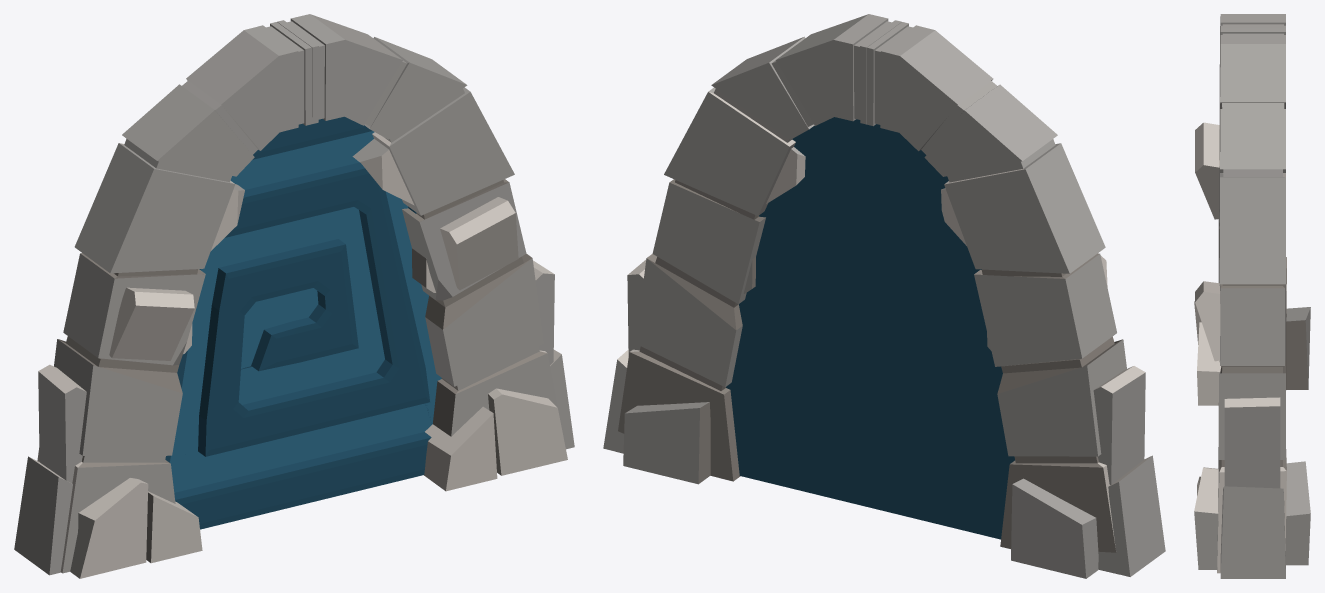
File: PORTAL_CLOSE.fbx
The picture shows the model from 3 angles, left to right: view 1: azimuth 30°, elevation 25°; view 2: azimuth 150°, elevation 25°; view 3: azimuth 270°, elevation 25°; orthographic projection. The views are drawn at different scales.
Parts seen in each view (by area): view 1: Cube.007; view 2: Cube.007; view 3: Cube.007.
Boxes of the visible parts, left/top/right/bottom form: Cube.007: left=14, top=14, right=574, bottom=578; Cube.007: left=603, top=14, right=1165, bottom=578; Cube.007: left=1194, top=14, right=1310, bottom=578.
Size of the model in its own units: 2720 by 2301 by 563.
